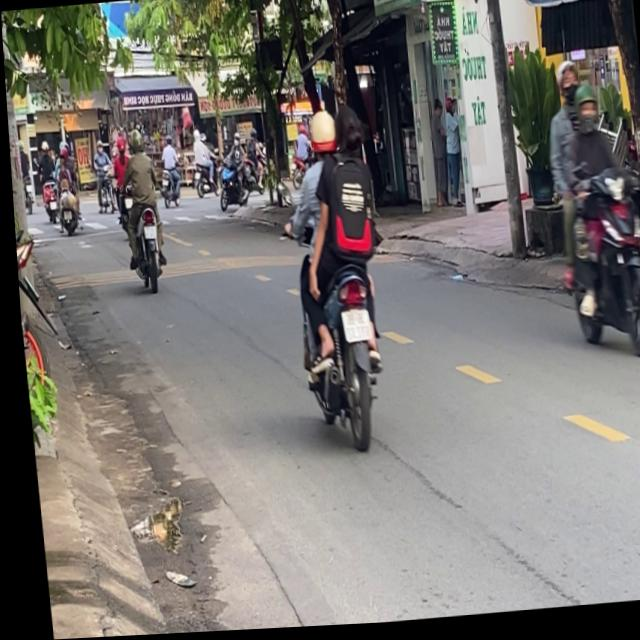helmet: (305, 111, 337, 160), (571, 86, 600, 136), (554, 63, 581, 108)
licenseplate: (271, 101, 397, 454), (534, 64, 640, 368)
motorcyclist: (329, 104, 365, 165)
nohelmet: (337, 314, 368, 346)
